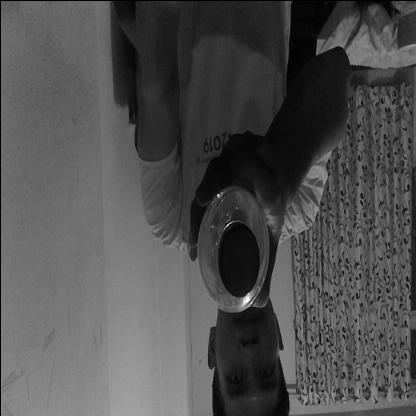plastic_bottles: (196, 181, 268, 312)
